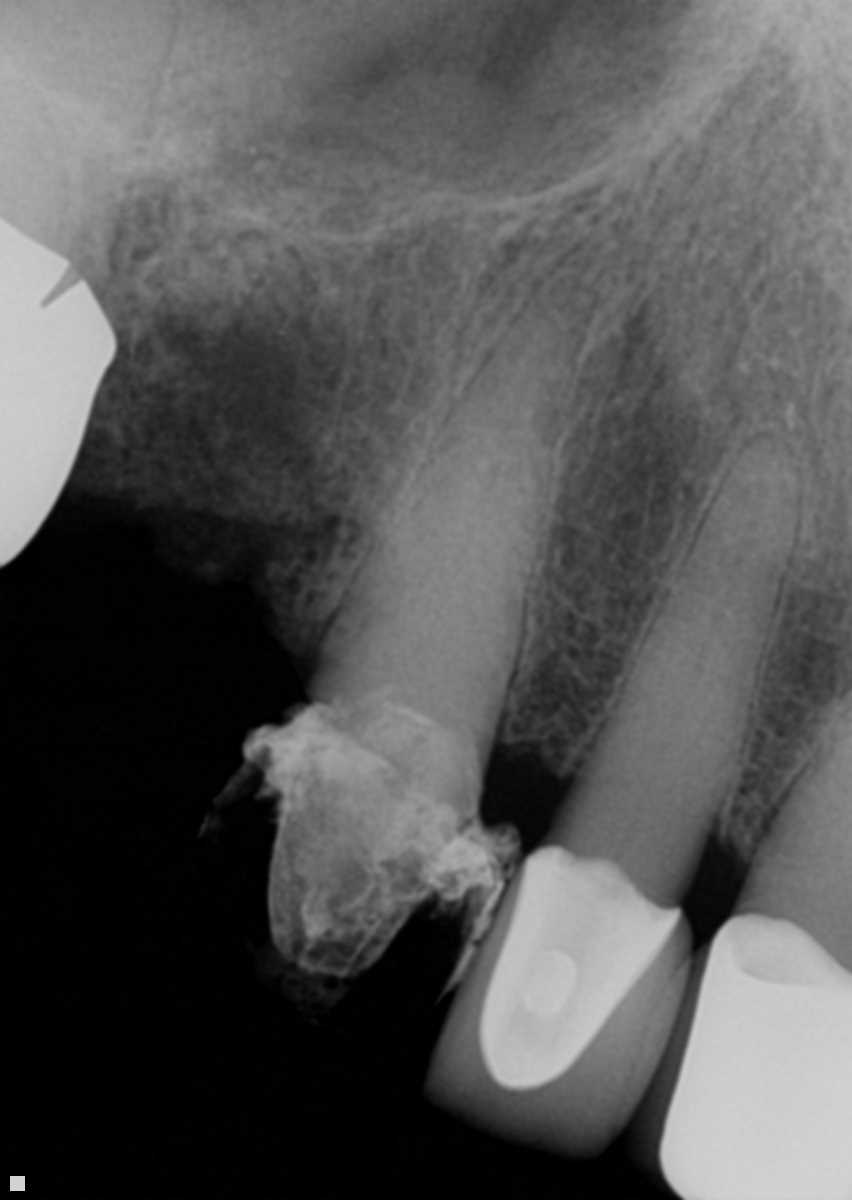Main Root: (319, 236, 604, 725), (563, 434, 803, 832), (752, 677, 852, 906)
